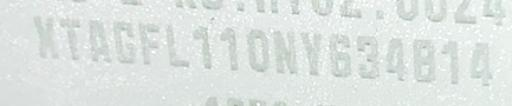letter: (30, 13, 62, 62), (464, 36, 496, 84), (161, 21, 191, 66), (84, 14, 112, 62), (296, 29, 324, 77), (326, 29, 354, 77), (409, 38, 439, 81), (270, 29, 298, 75), (244, 24, 270, 72), (438, 38, 464, 86), (110, 17, 136, 64), (60, 14, 84, 61), (190, 21, 214, 68), (136, 20, 160, 66), (218, 25, 242, 71), (356, 32, 378, 80), (380, 35, 404, 77)
